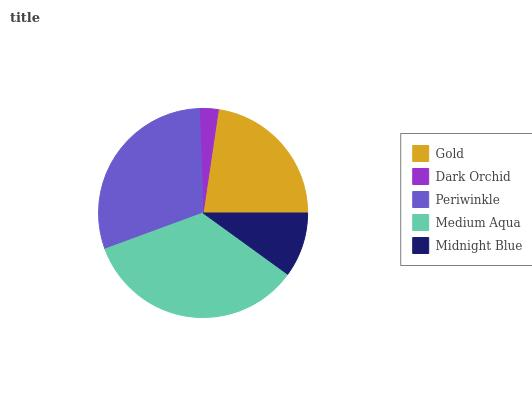legend: (400, 133, 532, 264)
sector: (102, 213, 288, 318), (96, 108, 205, 248), (203, 108, 309, 213), (202, 212, 309, 274), (201, 107, 219, 212)
